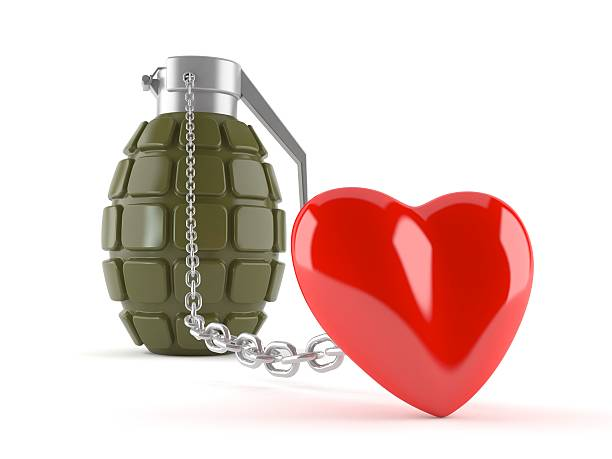e1: (99, 55, 299, 354)
